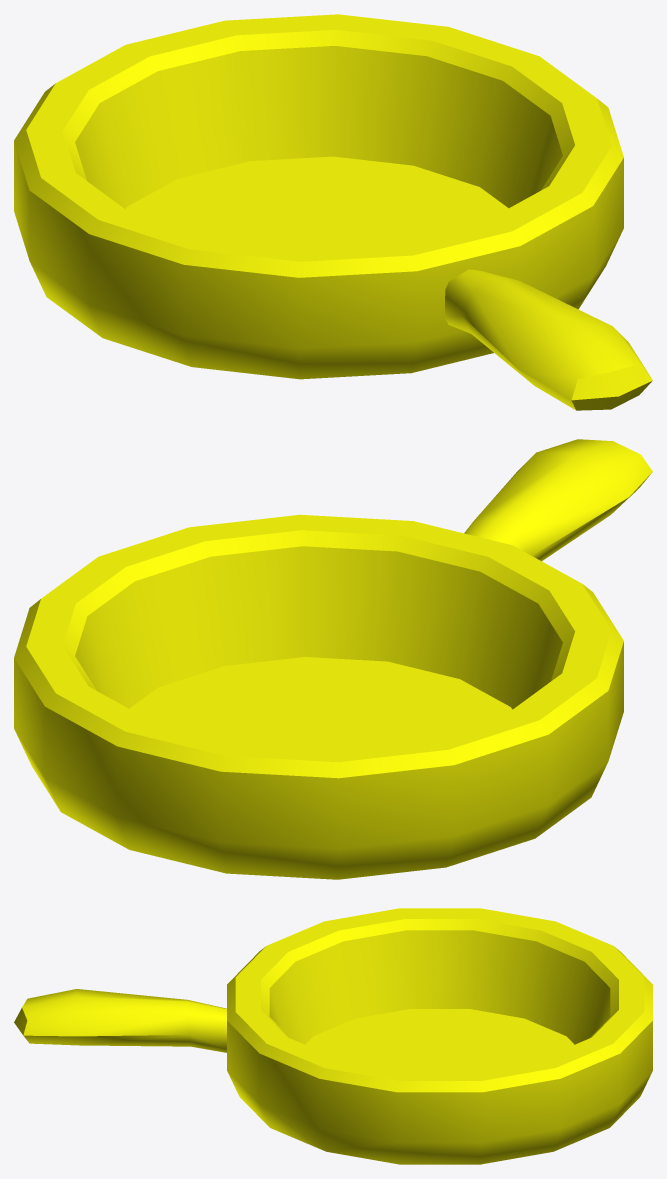
Rendered from pan_B.gltf.
3 renders of one model, top to bottom at view 1: azimuth 30°, elevation 25°; view 2: azimuth 150°, elevation 25°; view 3: azimuth 270°, elevation 25°, orthographic. The views are drawn at different scales.
Parts seen in each view (by area): view 1: pan_B; view 2: pan_B; view 3: pan_B.
Part boxes in pixels (<box>): pan_B: <box>14,14,652,410</box>; pan_B: <box>14,439,652,879</box>; pan_B: <box>14,908,652,1164</box>.
Size of the model in its own units: 1 by 0.25 by 1.5.
Materials: 1 (1 with a texture image).
